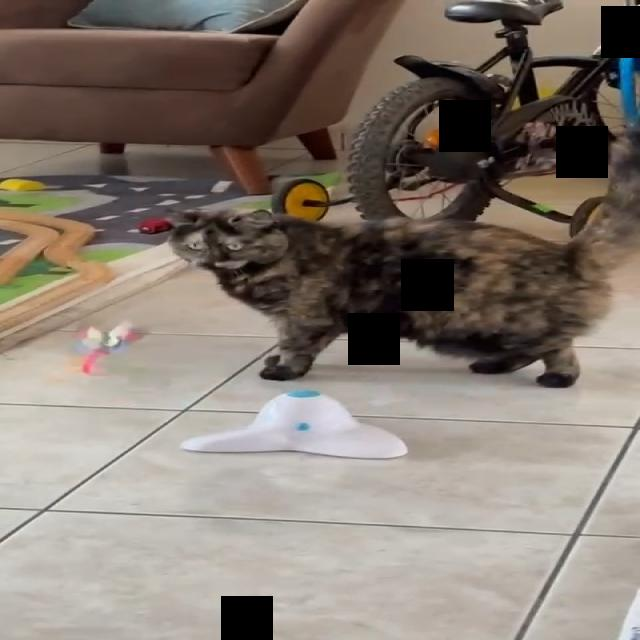authorized: (165, 126, 639, 388)
